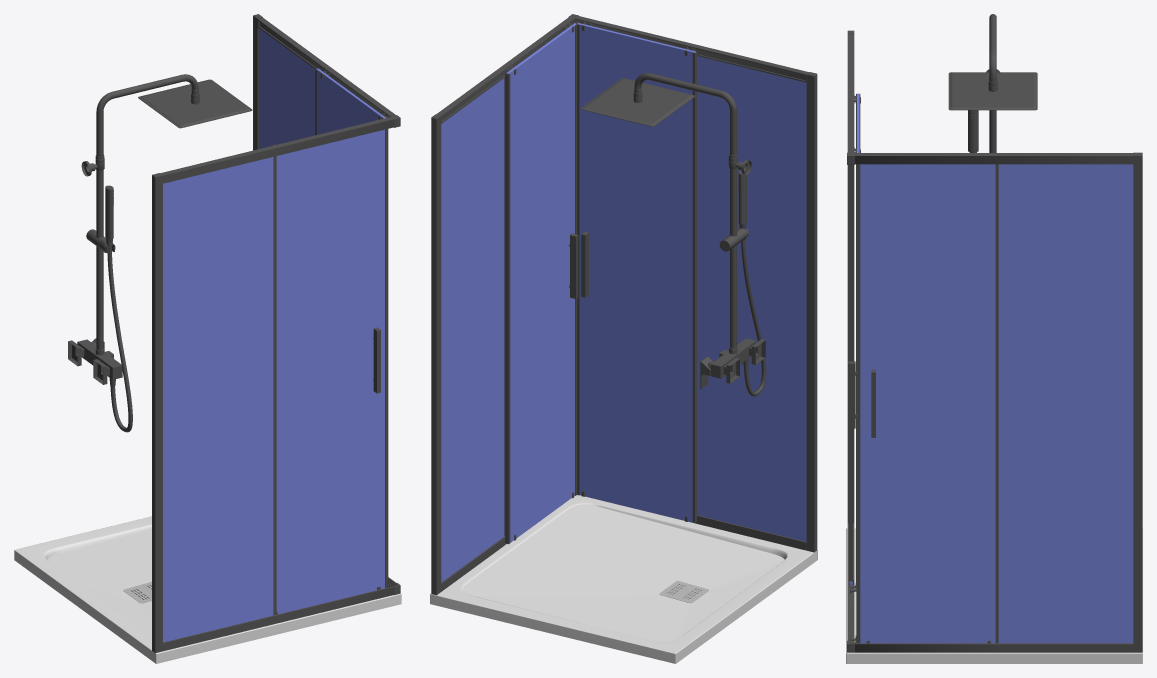
Rendered from Shower_Cabin.fbx.
The picture shows the model from 3 angles, left to right: view 1: azimuth 30°, elevation 25°; view 2: azimuth 150°, elevation 25°; view 3: azimuth 270°, elevation 25°; orthographic projection. The views are drawn at different scales.
Visible parts, largest first — view 1: Shower Cabin; view 2: Shower Cabin; view 3: Shower Cabin.
Part boxes in pixels (box(x1,y1,x2,y2)): Shower Cabin: box(14, 14, 401, 663); Shower Cabin: box(430, 14, 817, 663); Shower Cabin: box(846, 14, 1142, 663).
Size of the model in its own units: 100 by 200 by 100.
